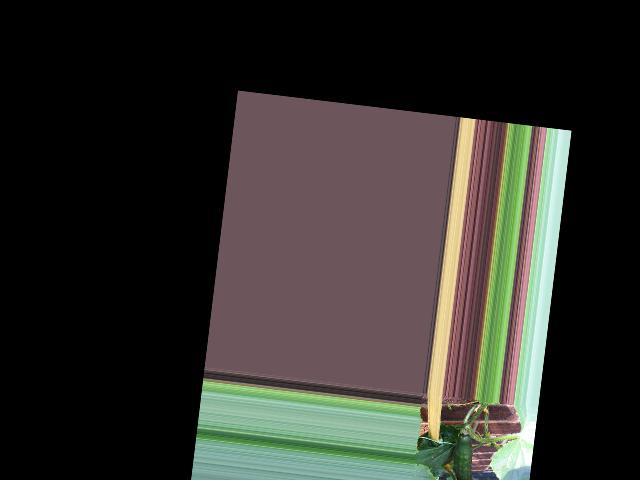cucumber: (449, 432, 480, 480)
